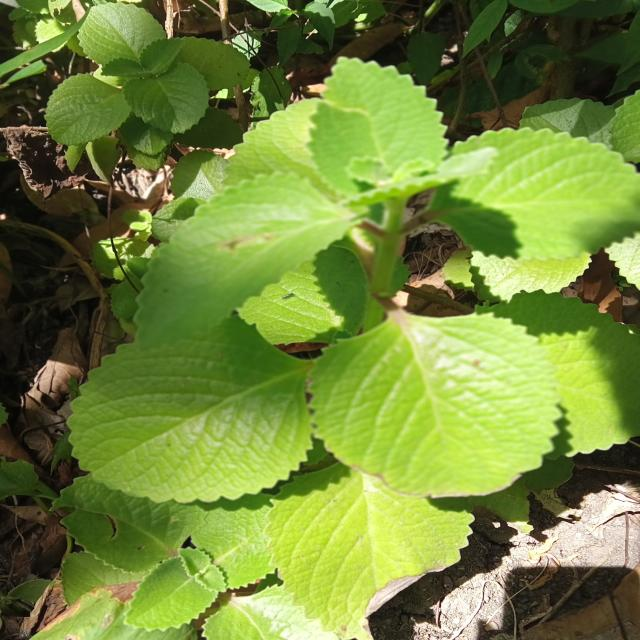Oregano: (296, 55, 630, 255), (302, 276, 570, 520), (61, 322, 333, 509), (40, 2, 249, 161)
